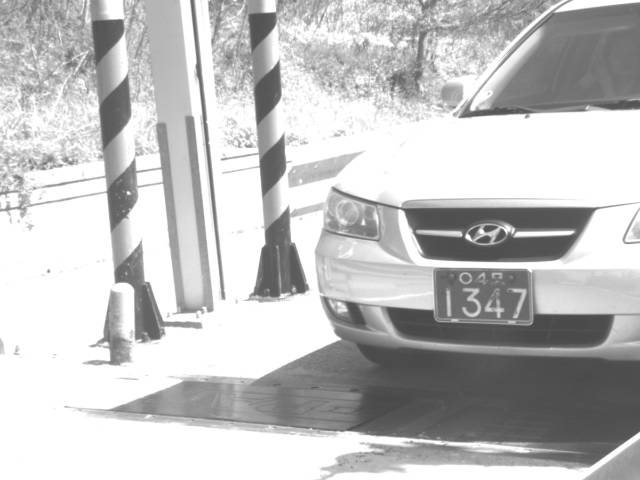car: (312, 1, 640, 382)
plate: (433, 267, 535, 324)
